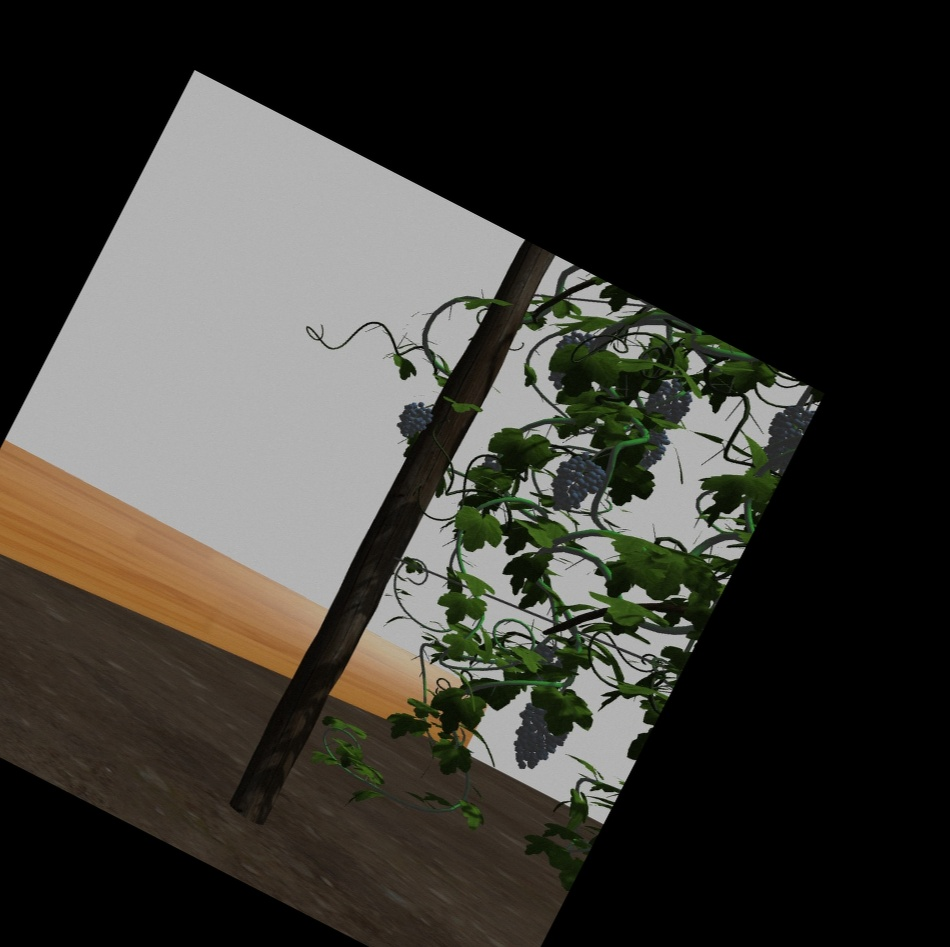grape: (512, 704, 562, 770), (554, 454, 598, 514), (765, 405, 798, 469), (647, 380, 688, 426), (399, 403, 429, 438)
